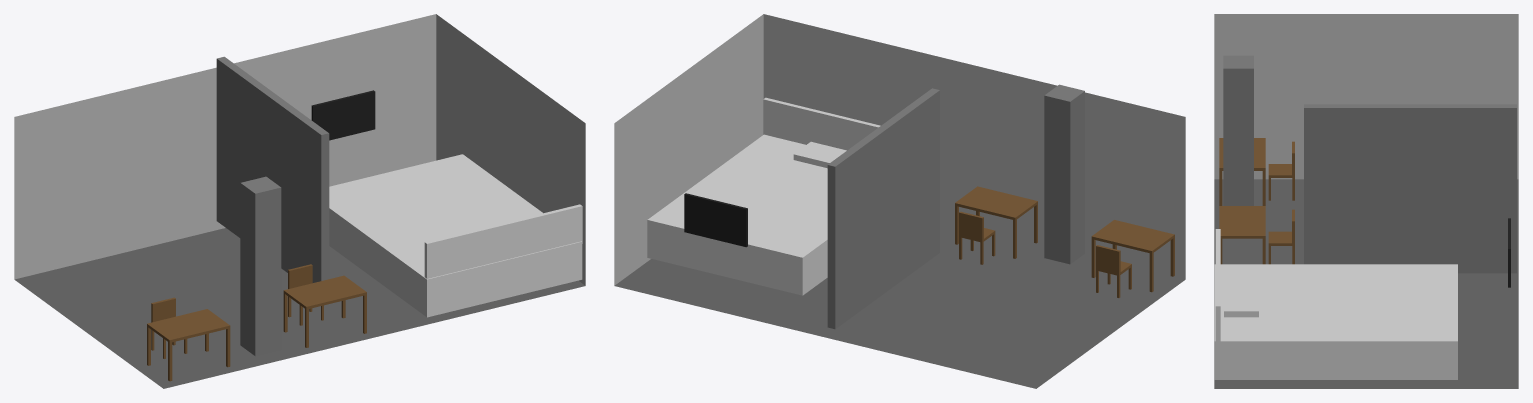
Rendered from nosofaroom.glb.
The picture shows the model from 3 angles, left to right: view 1: azimuth 30°, elevation 25°; view 2: azimuth 150°, elevation 25°; view 3: azimuth 270°, elevation 25°; orthographic projection.
Visible parts, largest first — view 1: walls, floor, Bed, partition_a, pillar_zone1, BedHead, TableChair, led_tv; view 2: walls, floor, partition_a, Bed, pillar_zone1, TableChair, BedHead, led_tv, Pillow; view 3: partition_a, walls, Bed, floor, pillar_zone1, TableChair, Pillow, BedHead.
Boxes of the visible parts, x1=… form: walls: x1=14, y1=14, x2=585, y2=285; floor: x1=14, y1=228, x2=585, y2=388; Bed: x1=329, y1=154, x2=582, y2=317; partition_a: x1=216, y1=56, x2=329, y2=282; pillar_zone1: x1=240, y1=176, x2=281, y2=356; BedHead: x1=424, y1=204, x2=582, y2=278; TableChair: x1=147, y1=264, x2=366, y2=381; led_tv: x1=311, y1=90, x2=375, y2=140; walls: x1=614, y1=14, x2=1185, y2=285; floor: x1=614, y1=219, x2=1185, y2=388; partition_a: x1=827, y1=88, x2=939, y2=329; Bed: x1=647, y1=134, x2=827, y2=295; pillar_zone1: x1=1044, y1=84, x2=1084, y2=264; TableChair: x1=955, y1=186, x2=1174, y2=297; BedHead: x1=763, y1=97, x2=880, y2=150; led_tv: x1=684, y1=193, x2=747, y2=247; Pillow: x1=793, y1=141, x2=846, y2=168; partition_a: x1=1304, y1=104, x2=1516, y2=273; walls: x1=1214, y1=14, x2=1518, y2=179; Bed: x1=1214, y1=264, x2=1457, y2=379; floor: x1=1214, y1=179, x2=1518, y2=388; pillar_zone1: x1=1223, y1=55, x2=1253, y2=205; TableChair: x1=1219, y1=138, x2=1294, y2=264; Pillow: x1=1224, y1=285, x2=1258, y2=317; BedHead: x1=1215, y1=229, x2=1220, y2=344.
Size of the model in its own units: 8.15 by 3.18 by 5.
